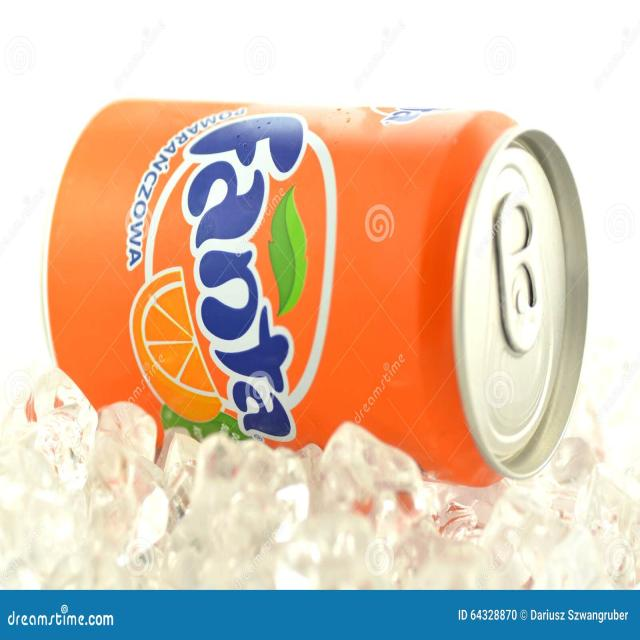fanta: (43, 91, 585, 479)
